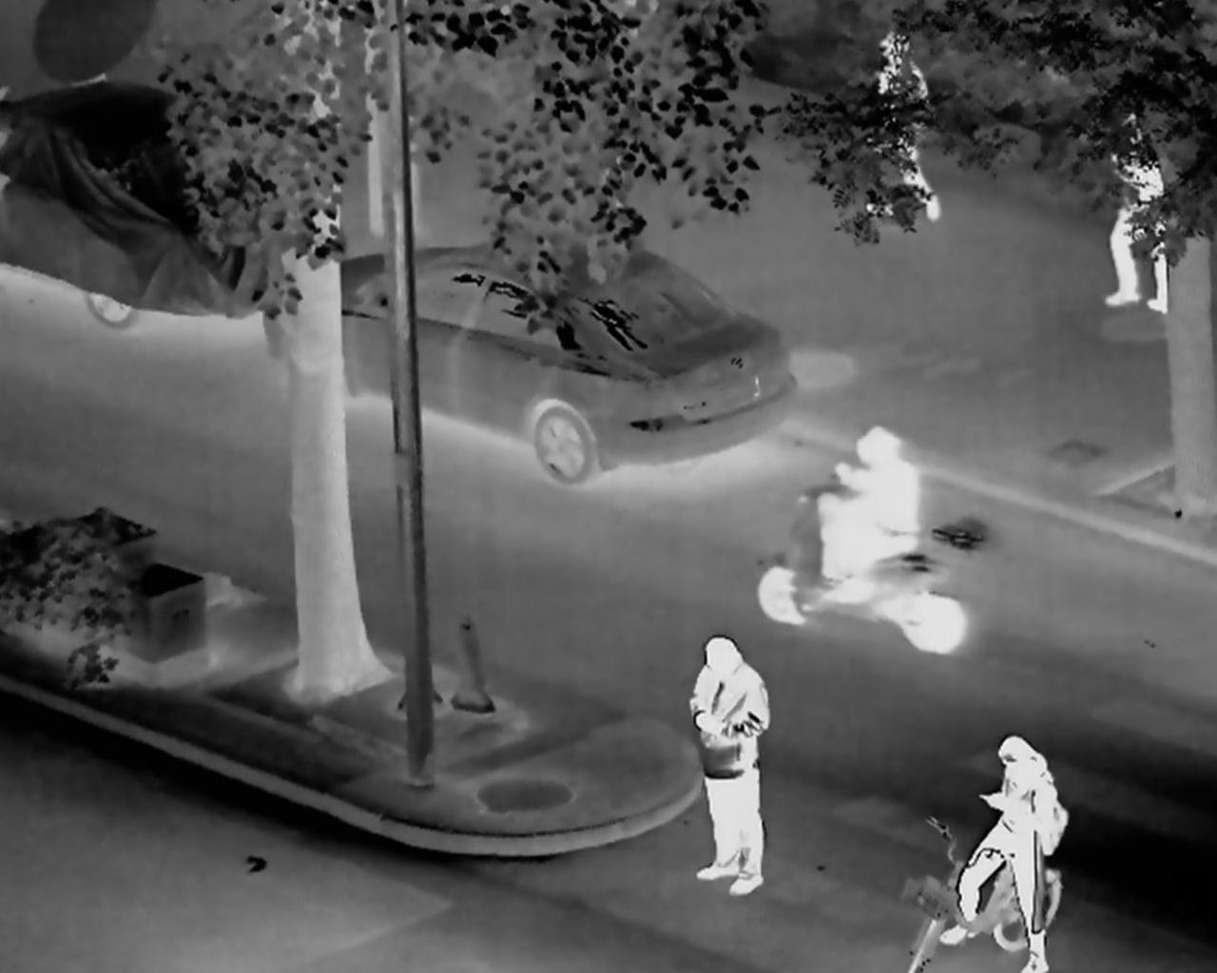person: (942, 736, 1056, 973), (687, 637, 771, 896), (814, 429, 918, 604), (865, 30, 942, 224), (1108, 105, 1172, 315)
